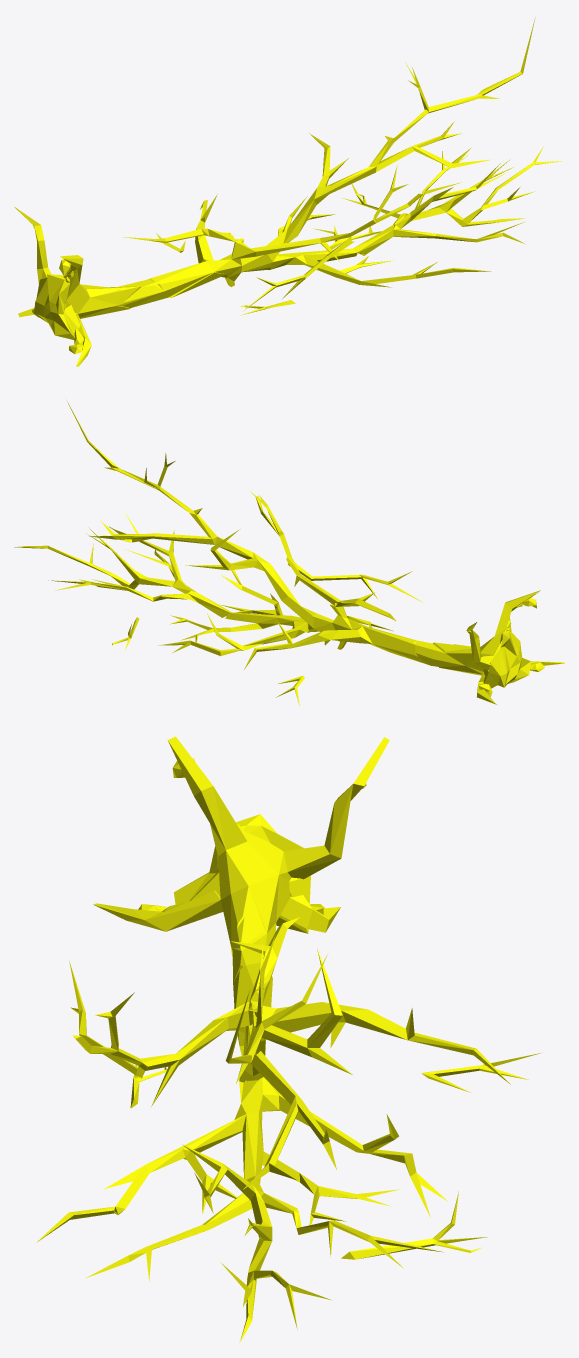
The model's file is tree_fallen.glb.
3 views of the same model, one above another, from view 1: azimuth 30°, elevation 25°; view 2: azimuth 150°, elevation 25°; view 3: azimuth 270°, elevation 25° (orthographic). The views are drawn at different scales.
Parts seen in each view (by area): view 1: SM_Fallen_Tree_LOD0; view 2: SM_Fallen_Tree_LOD0; view 3: SM_Fallen_Tree_LOD0.
Boxes of the visible parts, left/top/right/bottom form: SM_Fallen_Tree_LOD0: left=14, top=18, right=562, bottom=366; SM_Fallen_Tree_LOD0: left=14, top=399, right=564, bottom=706; SM_Fallen_Tree_LOD0: left=36, top=736, right=542, bottom=1342.
Size of the model in its own units: 7.64 by 2.69 by 3.36.
